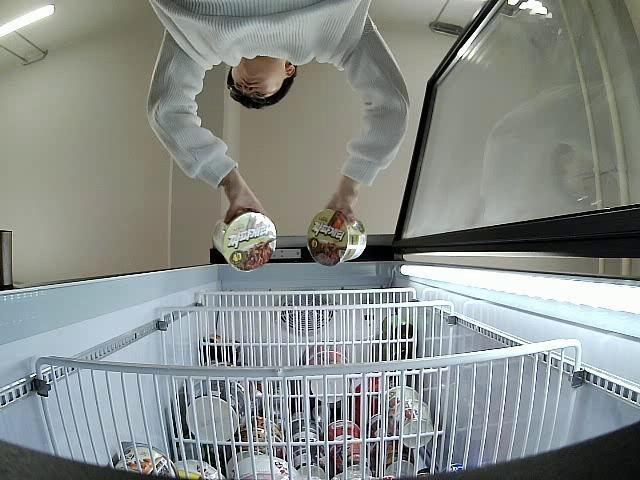03_chapagetti_L: (210, 212, 278, 273), (308, 209, 367, 266)
